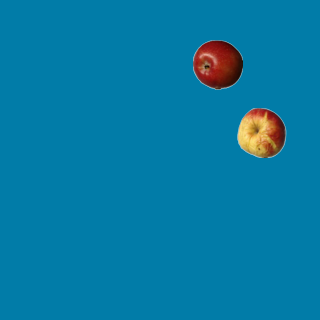Apple Braeburn: (192, 39, 242, 89)
Apple Red Yellow 1: (236, 107, 286, 157)
